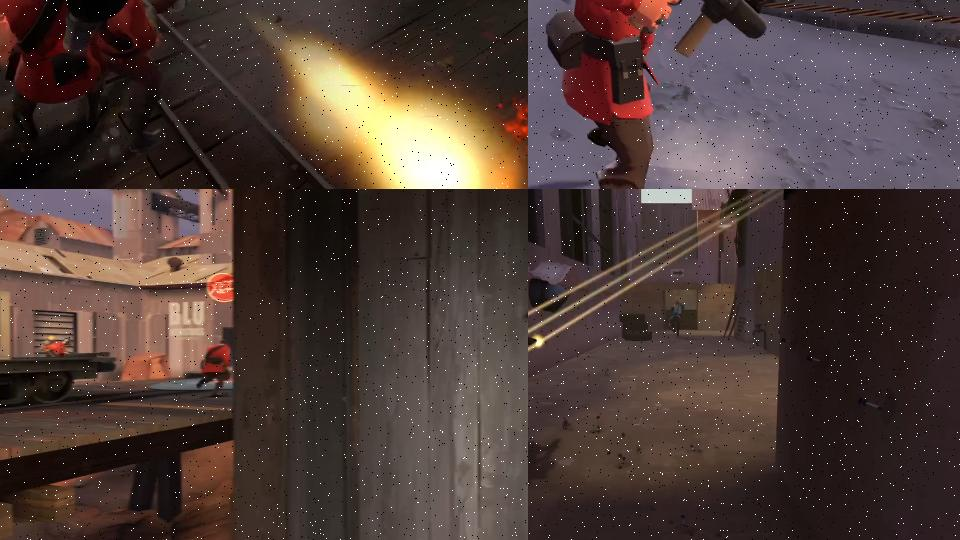Enemy: (528, 0, 770, 189), (86, 0, 233, 157), (0, 0, 134, 142), (197, 340, 232, 396), (39, 335, 72, 358), (669, 301, 685, 338)
